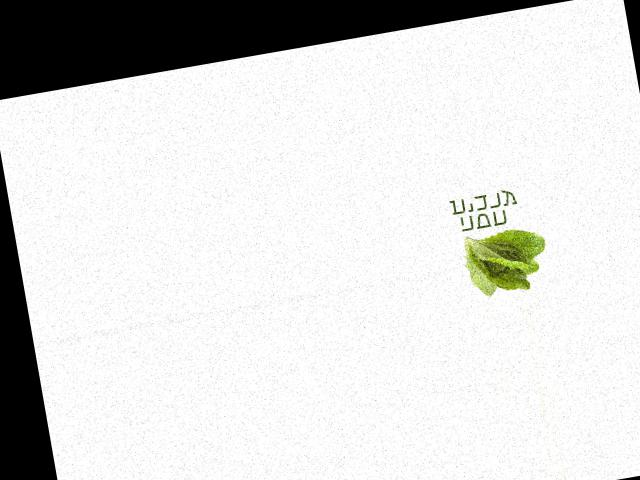lettuce: (454, 216, 553, 300)
